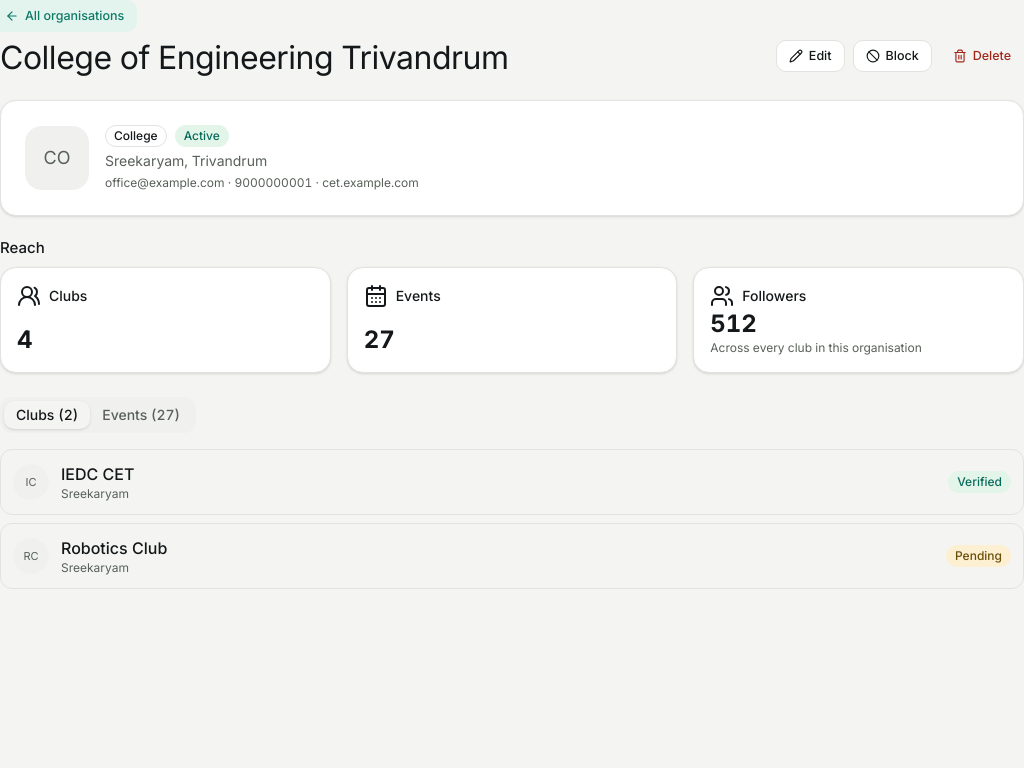
Test: delete an organisation › cancelling sends nothing
Expected: the heading "College of Engineering Trivandrum" is shown, [0,40,509,76]
Expected: the text "512" is shown, [710,309,757,338]
Click the button "Delete": (982, 56) [940,40,1023,72]
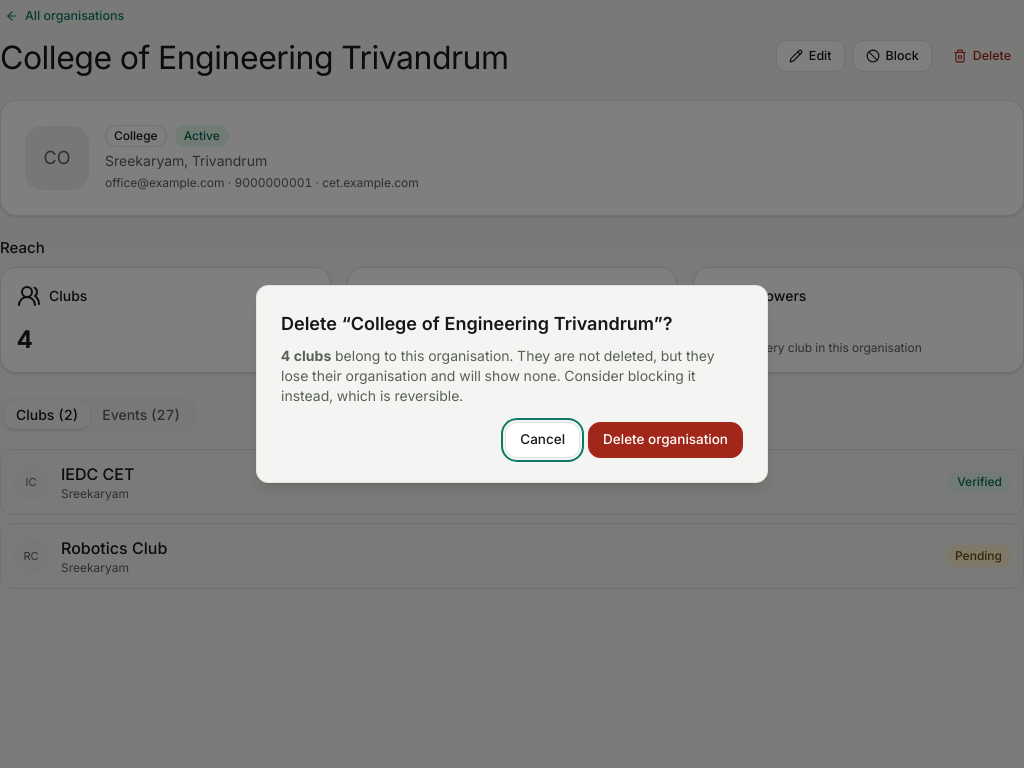
Click the button "Cancel": (543, 440) [505,422,580,458]
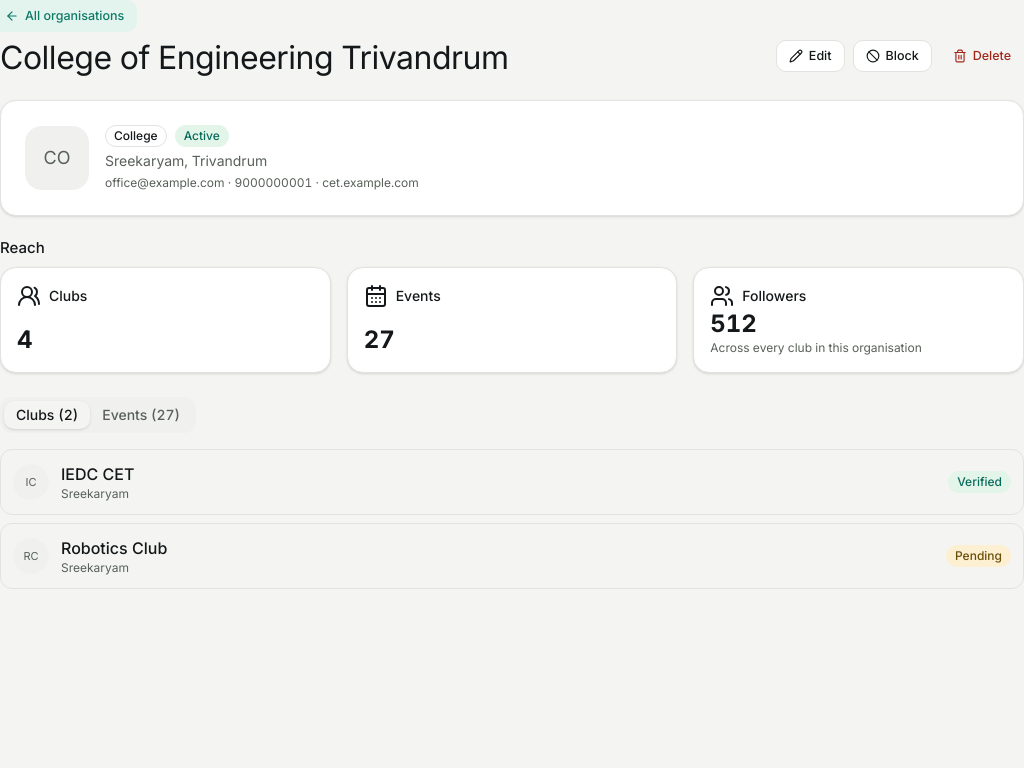
Now the dialog is gone
